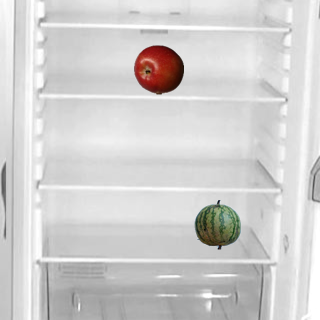Apple Braeburn: (133, 44, 183, 94)
Watermelon: (192, 199, 242, 249)
